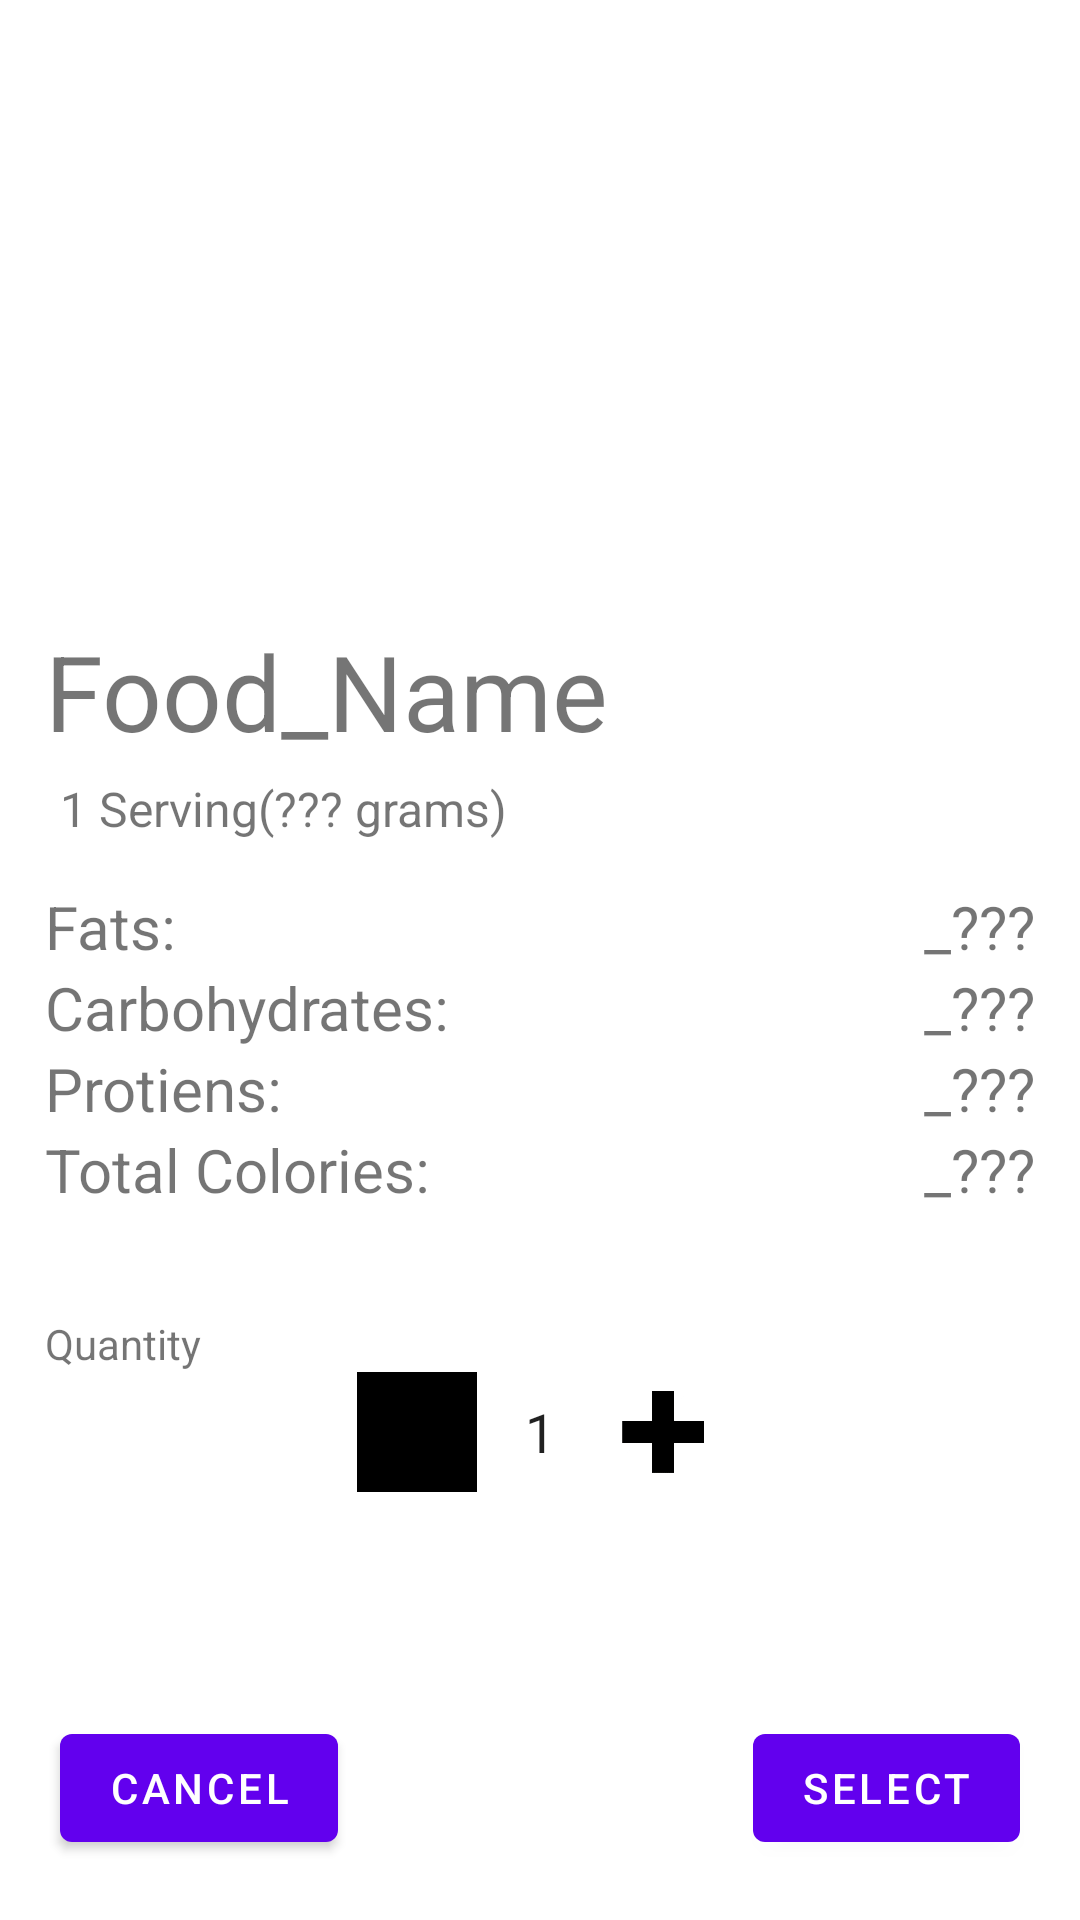

Icon bounding boxes for this 1080 x 1920 phone screenshot, format bbox=(x1, y1, x2, y2):
plus: bbox=(622, 1391, 704, 1473)
